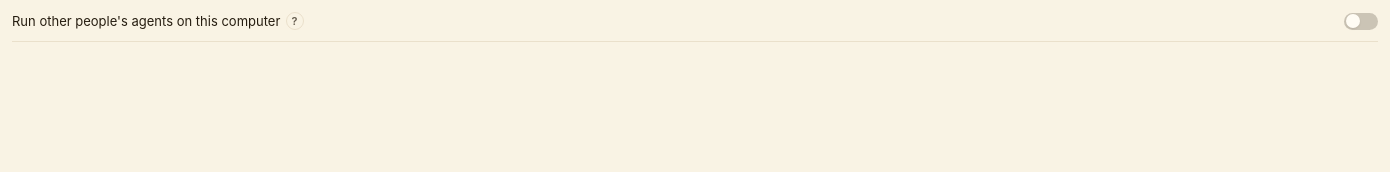
RunOthersAgentsRow › is off by default and turns on
Click the switch named "Run other people's agents on this computer" at (1361, 21), box [1344,13,1378,30]
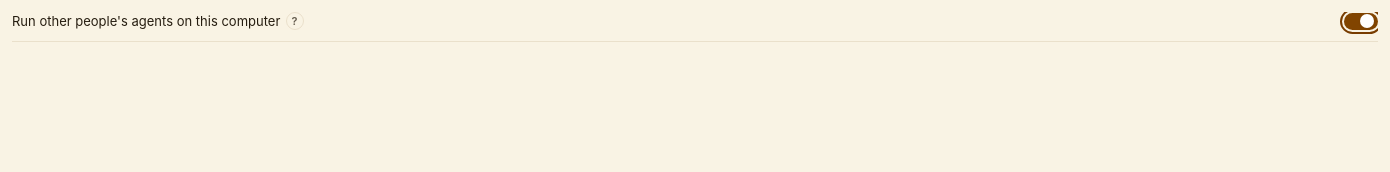
Expected: the number of switches is 1, [1344,13,1378,30]
Expected: the switch is checked, [1344,13,1378,30]
